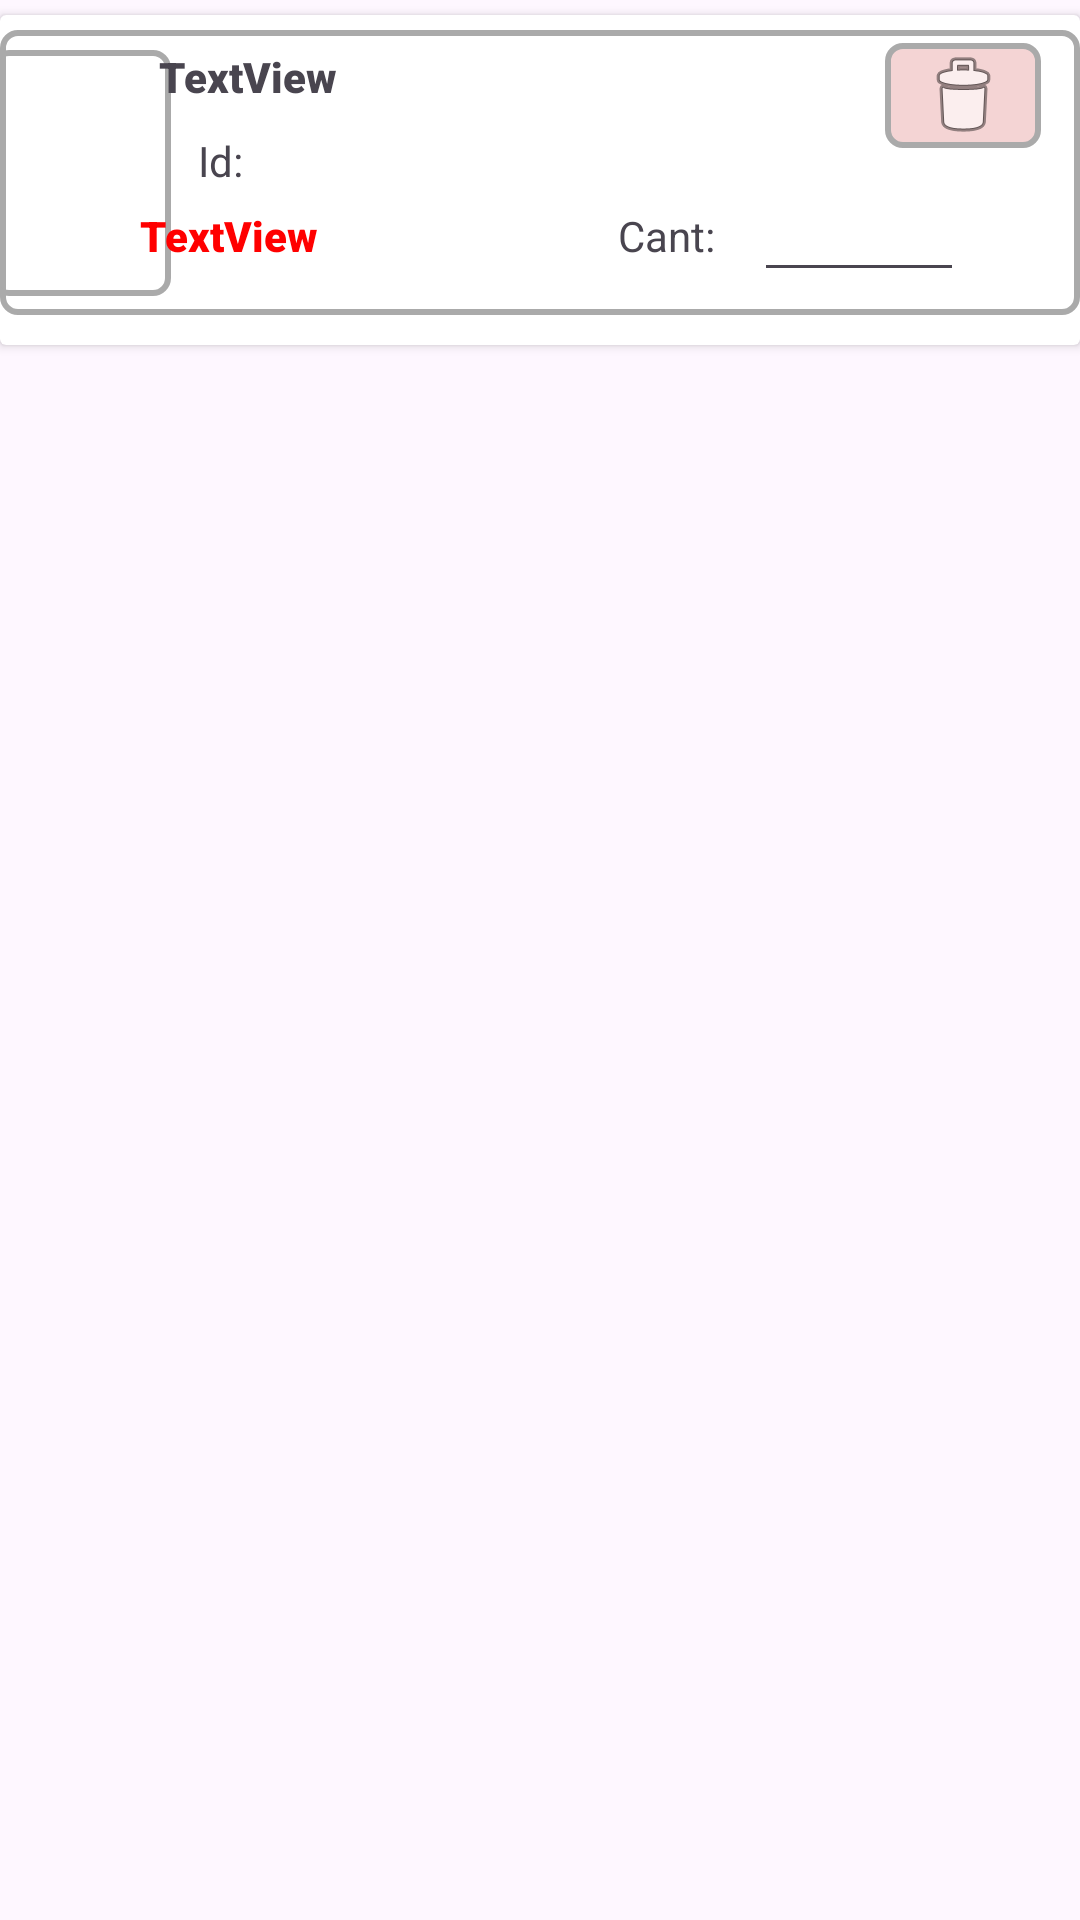

Where to tap for icons on this 1080 × 1920 app screen, as [x,y]:
delete: [963,95]
